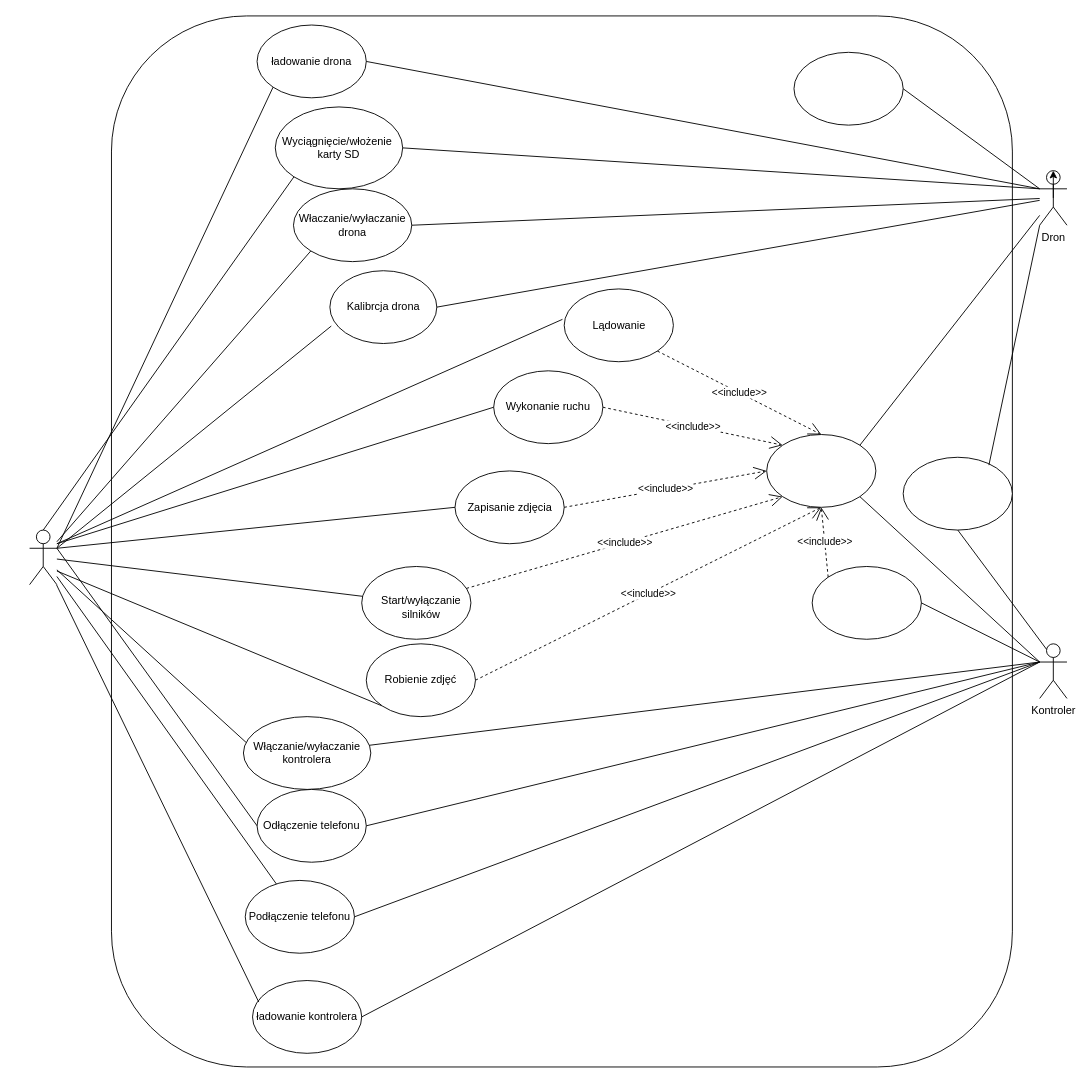
This 1091x1083 diagram has some shape labels left out. The shapes that lost their labels are listed below. From the top down, each one's centre as x and y in pixels, then its label:
At point 848,88: "Powrót na miejsce startu".
At point 821,470: "Wysłanie sygnału do drona".
At point 957,493: "Wysyłanie wideo na żywo".
At point 43,557: "Użytkownik".
At point 866,602: "Wysłanie sygnału PING".
